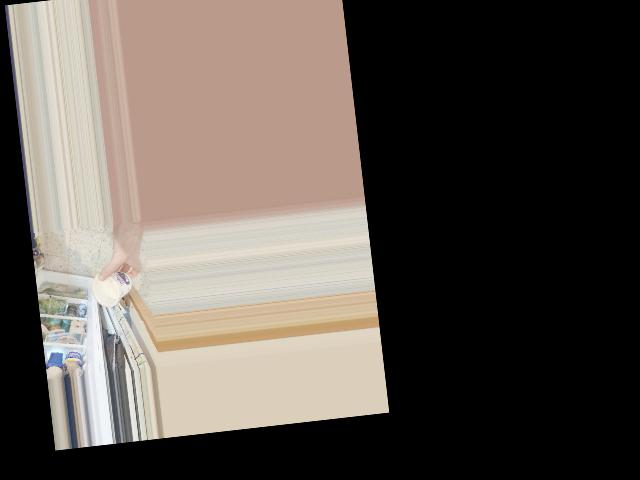cotage: (90, 265, 135, 313)
